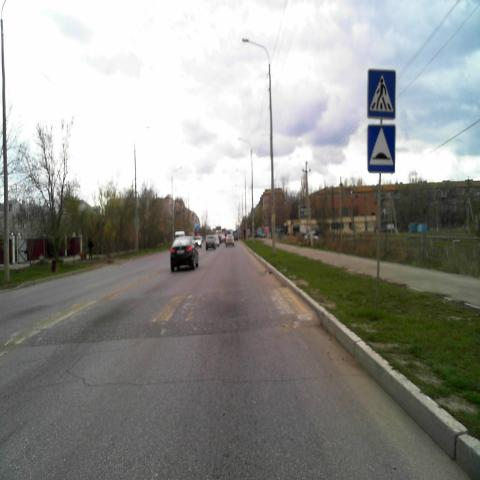5_20: (368, 123, 395, 173)
